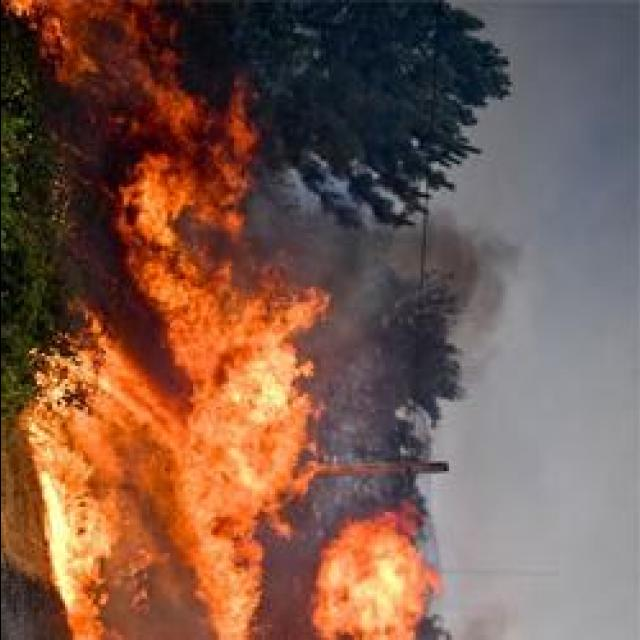fire: (29, 336, 114, 617), (310, 527, 425, 634), (178, 468, 252, 546), (220, 371, 286, 456)
smoke: (432, 225, 476, 262), (464, 0, 528, 12)
